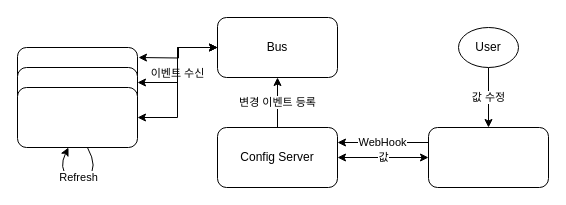
Some shapes in this 566 by 205 pixel diagram are drawn without their labels. The centre of each missing label's shape, as x and y in pixels:
Config Client: (x=77, y=117)
Repository (설정값): (x=488, y=157)
